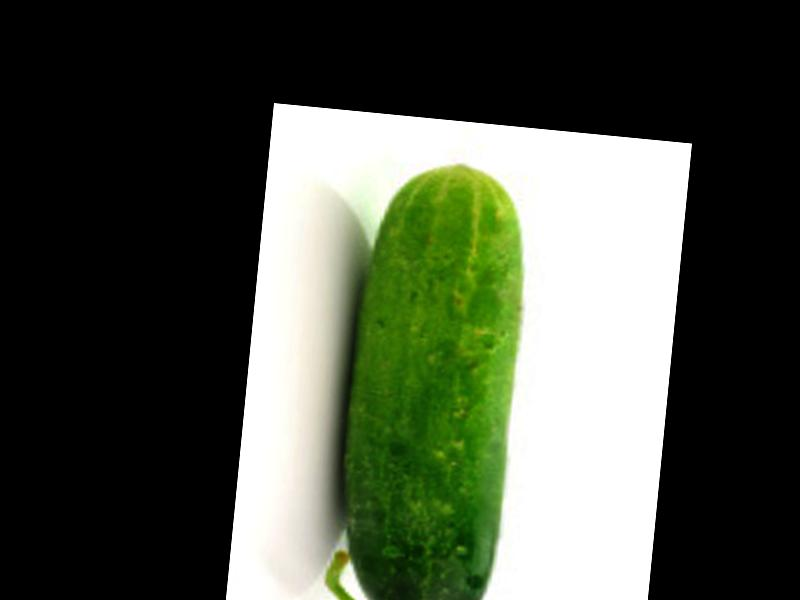Cucumber: (321, 151, 535, 600)
